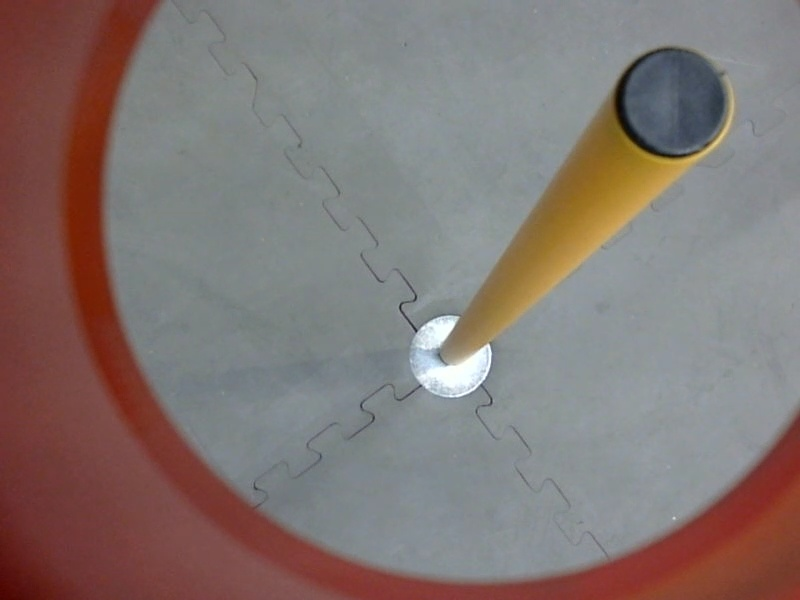tip: (607, 35, 740, 167)
